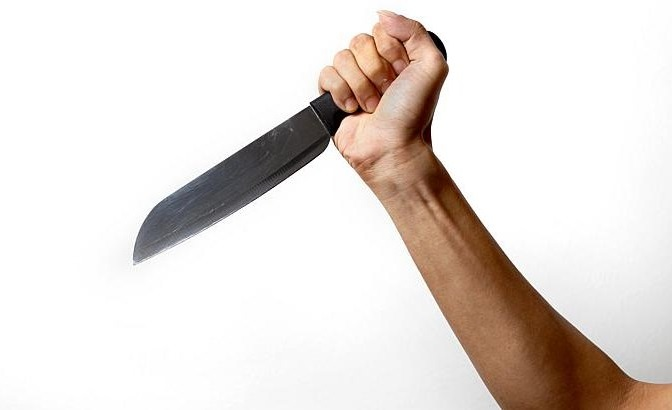knife: (127, 36, 402, 276)
